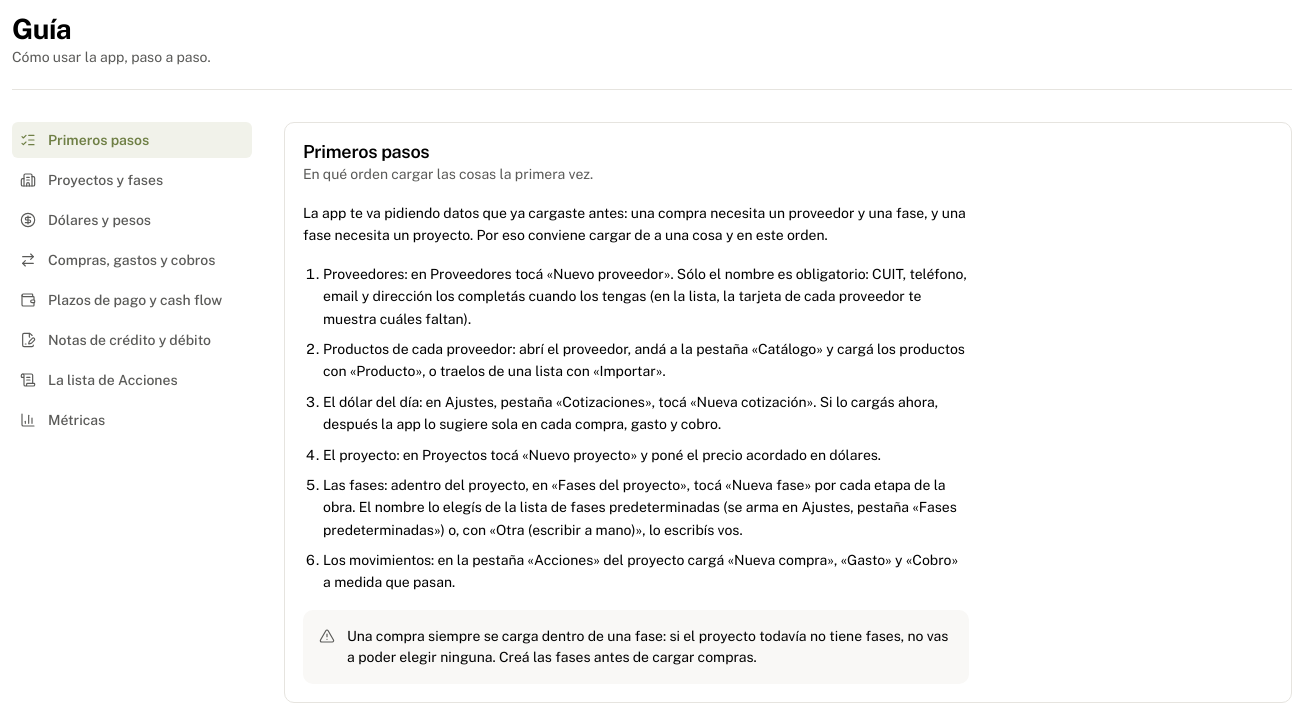
Guia › muestra la sección elegida en el panel
This screenshot has width=1292, height=719.
Expected: the heading "Primeros pasos" is shown, x1=303 y1=141 x2=429 y2=162
Click the button "Dólares y pesos" at {"x": 132, "y": 220}, box x1=12 y1=202 x2=252 y2=238
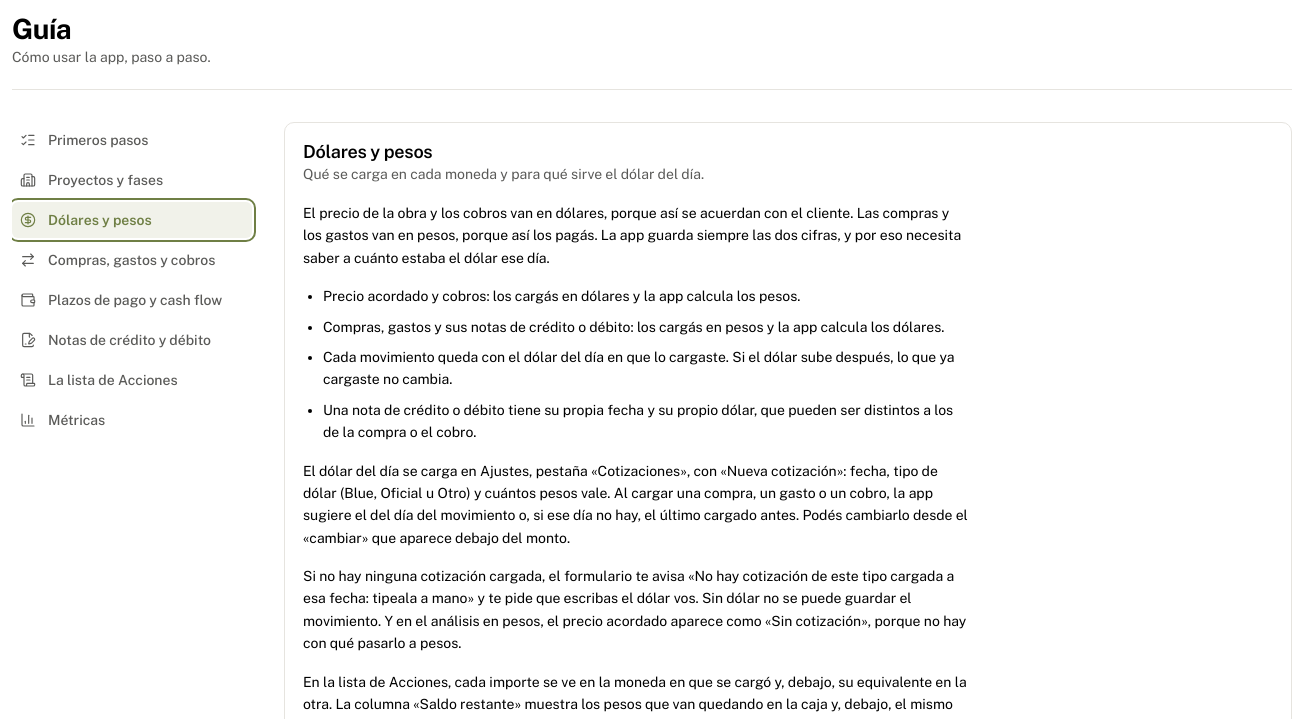
Now the heading "Dólares y pesos" is shown, box x1=303 y1=141 x2=432 y2=162
